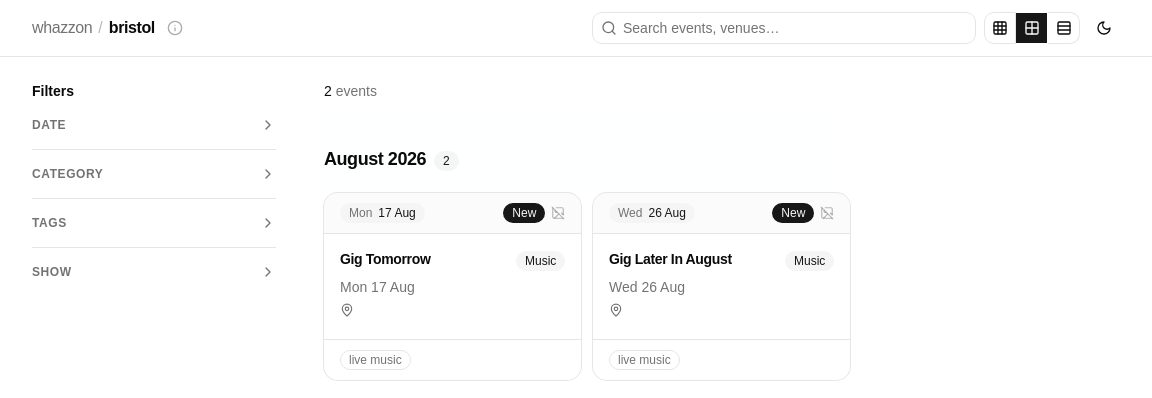
the date control, on the real page › renders in the filter panel
Expected: the heading "Gig Tomorrow" is shown, top-left (340, 251), bottom-right (430, 267)
Step 1. Click the button "Date" → {"x": 154, "y": 125}, box top-left (32, 113), bottom-right (276, 137)
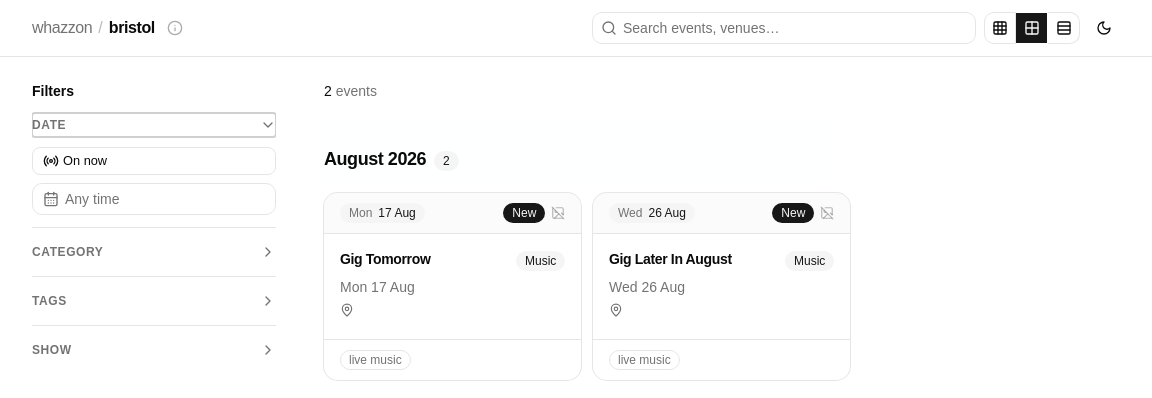
Result: the button "Any time" is shown at top-left (32, 183), bottom-right (276, 215)
